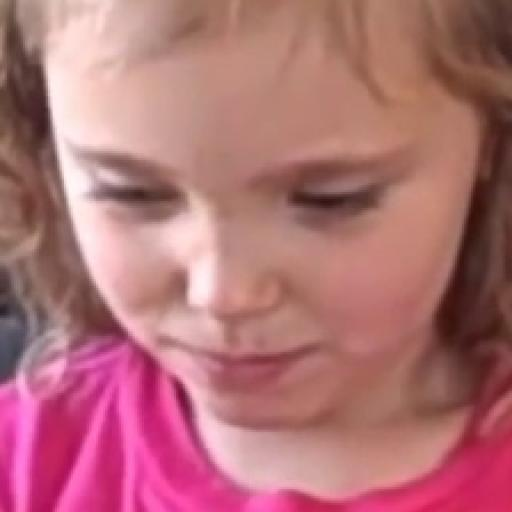Autism: (35, 13, 512, 451)
